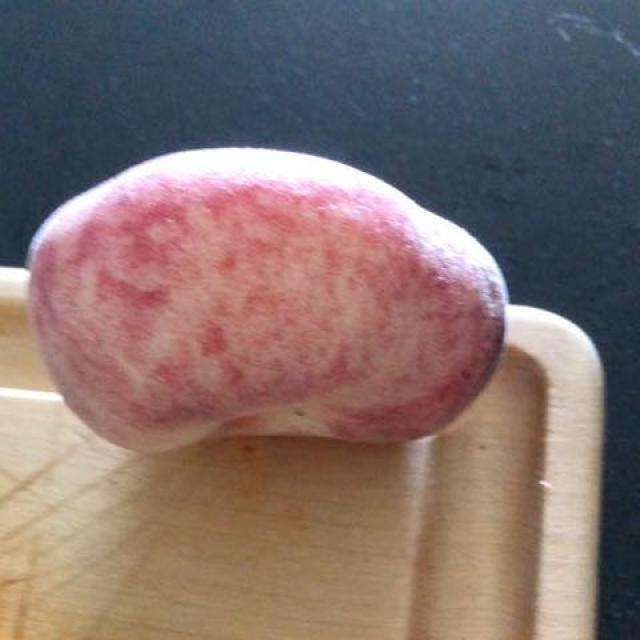peach: (41, 166, 501, 446)
